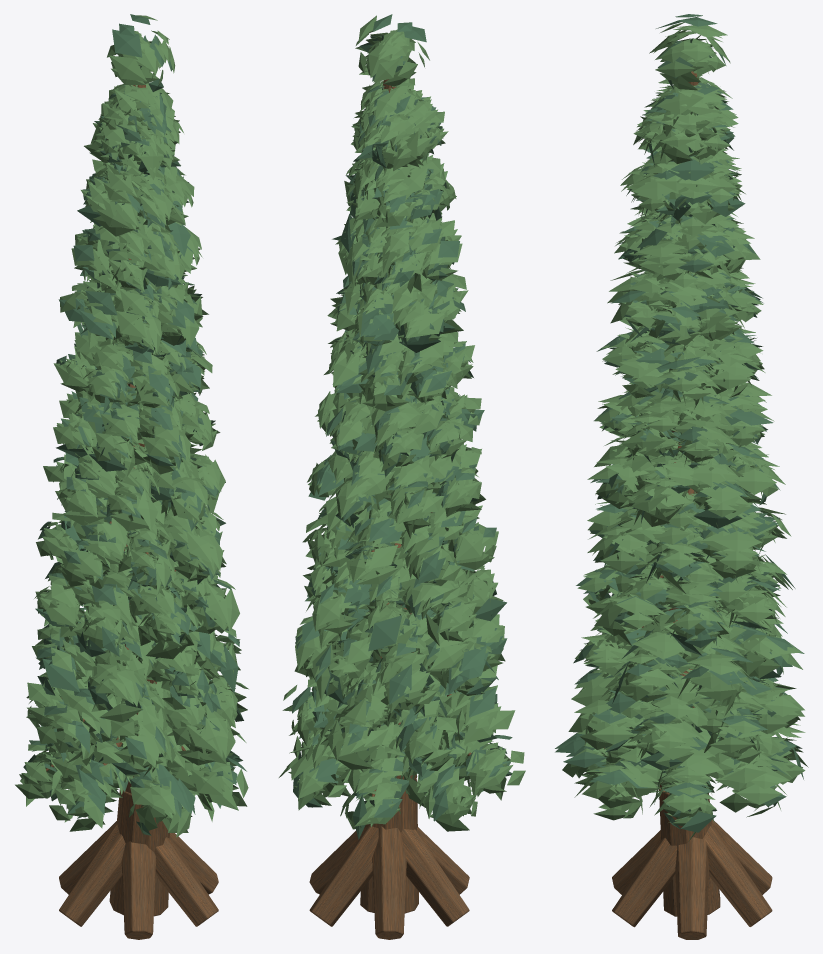
The model's file is cypress.glb.
3 renders of one model, left to right at view 1: azimuth 30°, elevation 25°; view 2: azimuth 150°, elevation 25°; view 3: azimuth 270°, elevation 25°, orthographic.
Parts seen in each view (by area): view 1: Layered needle sprays.001, Layered needle sprays, Grounded buttress roots, Tapered curved trunk, Conifer crown.001, Conifer crown; view 2: Layered needle sprays.001, Layered needle sprays, Grounded buttress roots, Conifer crown.001, Tapered curved trunk, Conifer crown; view 3: Layered needle sprays.001, Layered needle sprays, Grounded buttress roots, Conifer crown.001, Tapered curved trunk, Conifer crown.
Part boxes in pixels (bbox=[...]): Layered needle sprays.001: bbox=[15, 83, 248, 837]; Layered needle sprays: bbox=[23, 84, 246, 835]; Grounded buttress roots: bbox=[59, 821, 218, 939]; Tapered curved trunk: bbox=[109, 382, 169, 916]; Conifer crown.001: bbox=[107, 15, 175, 87]; Conifer crown: bbox=[112, 14, 172, 91]; Layered needle sprays.001: bbox=[279, 78, 525, 831]; Layered needle sprays: bbox=[292, 85, 512, 839]; Grounded buttress roots: bbox=[309, 825, 469, 939]; Conifer crown.001: bbox=[355, 15, 429, 86]; Tapered curved trunk: bbox=[360, 649, 418, 913]; Conifer crown: bbox=[359, 14, 426, 81]; Layered needle sprays.001: bbox=[562, 75, 808, 841]; Layered needle sprays: bbox=[555, 77, 804, 832]; Grounded buttress roots: bbox=[612, 819, 772, 939]; Conifer crown.001: bbox=[649, 22, 730, 90]; Tapered curved trunk: bbox=[659, 430, 720, 916]; Conifer crown: bbox=[656, 14, 726, 89].
Bounding box in the file's own units: 1.31 × 5.3 × 1.37.
4 materials, 2 textured.
